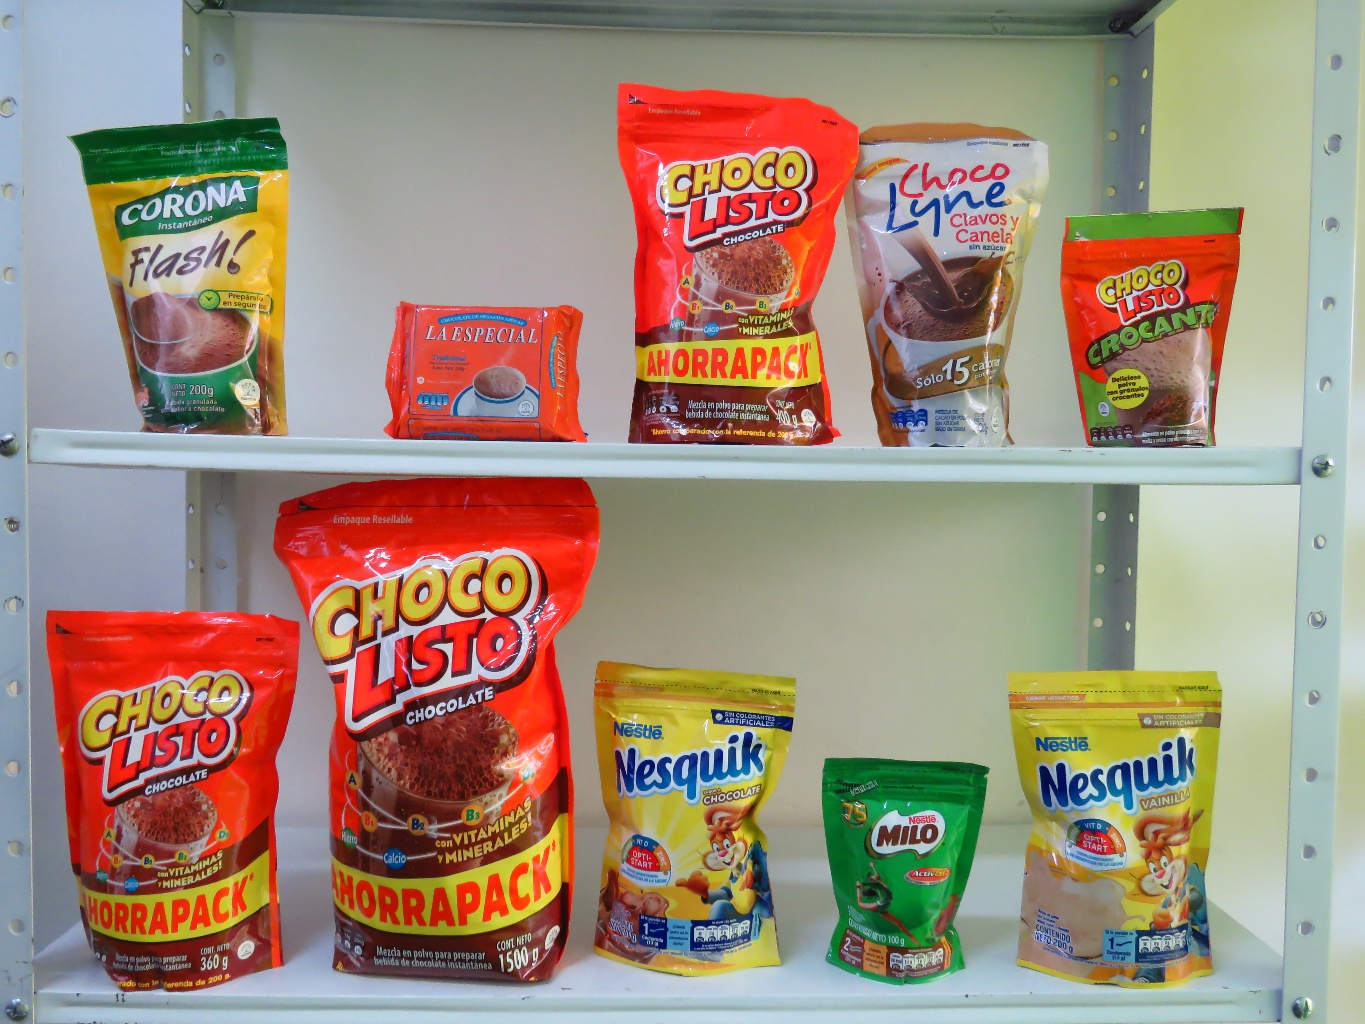COL0170102DYP10000: (1061, 191, 1252, 464)
COL0170103DYP1,500: (269, 475, 591, 986)
COL0170103DYP36000: (41, 603, 308, 994)
COL0170103DYP40000: (611, 55, 857, 454)
COL0170203DYP10000: (816, 730, 993, 987)
COL0170303DYP20000: (584, 662, 800, 983)
COL0170306DYP20000: (1008, 663, 1248, 992)
